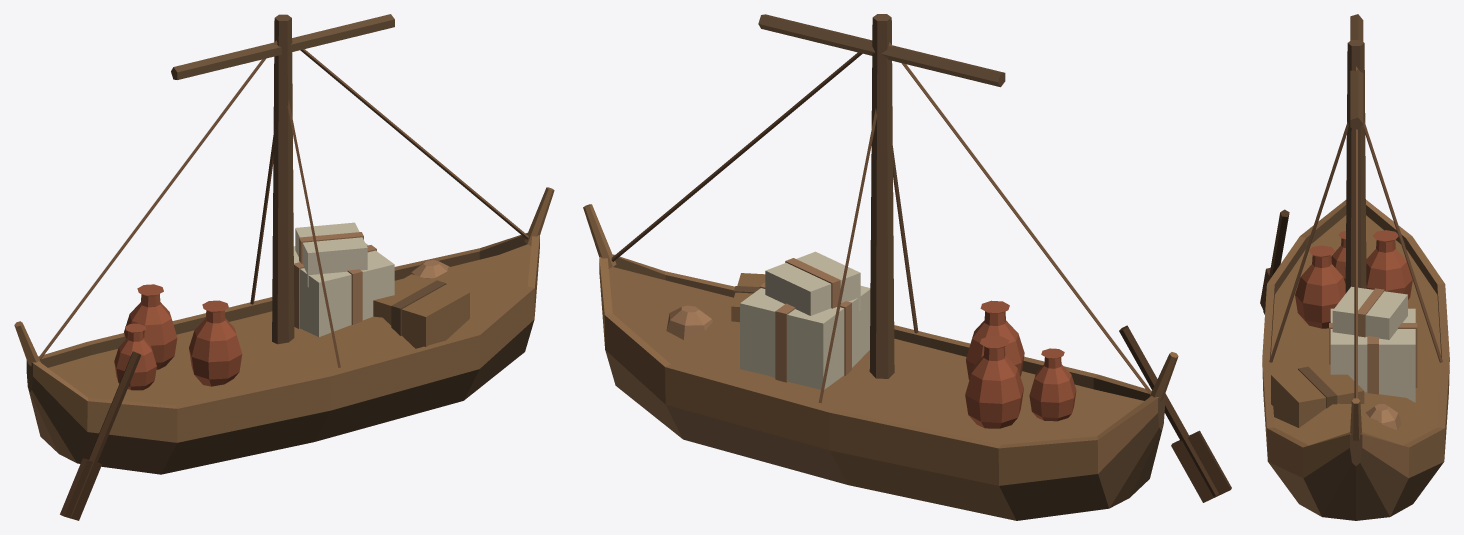
File: merchant.glb
The picture shows the model from 3 angles, left to right: view 1: azimuth 30°, elevation 25°; view 2: azimuth 150°, elevation 25°; view 3: azimuth 270°, elevation 25°; orthographic projection. The views are drawn at different scales.
Visible parts, largest first — view 1: merchant; view 2: merchant; view 3: merchant.
Part boxes in pixels (x1,y1,x2,y2): merchant: (14, 14, 554, 520); merchant: (583, 14, 1231, 520); merchant: (1260, 14, 1449, 520).
Bounding box in the file's own units: 4.29 × 3.11 × 1.34.
